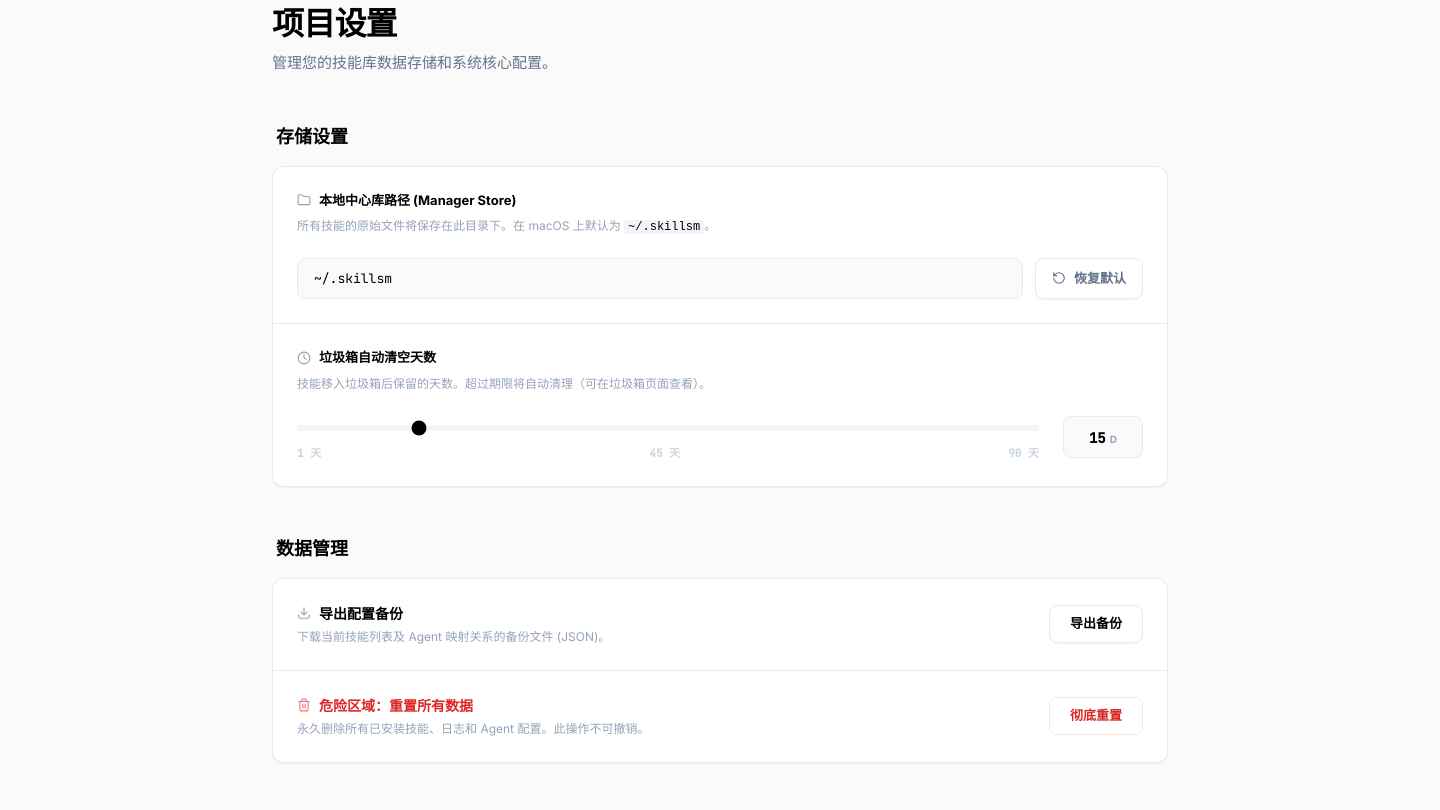
Scenario: SettingsPage › 点击中心库路径会打开选择器并二次确认迁移
Click the field named "本地中心库路径". click: click(660, 278)
box: [314,268,1006,288]
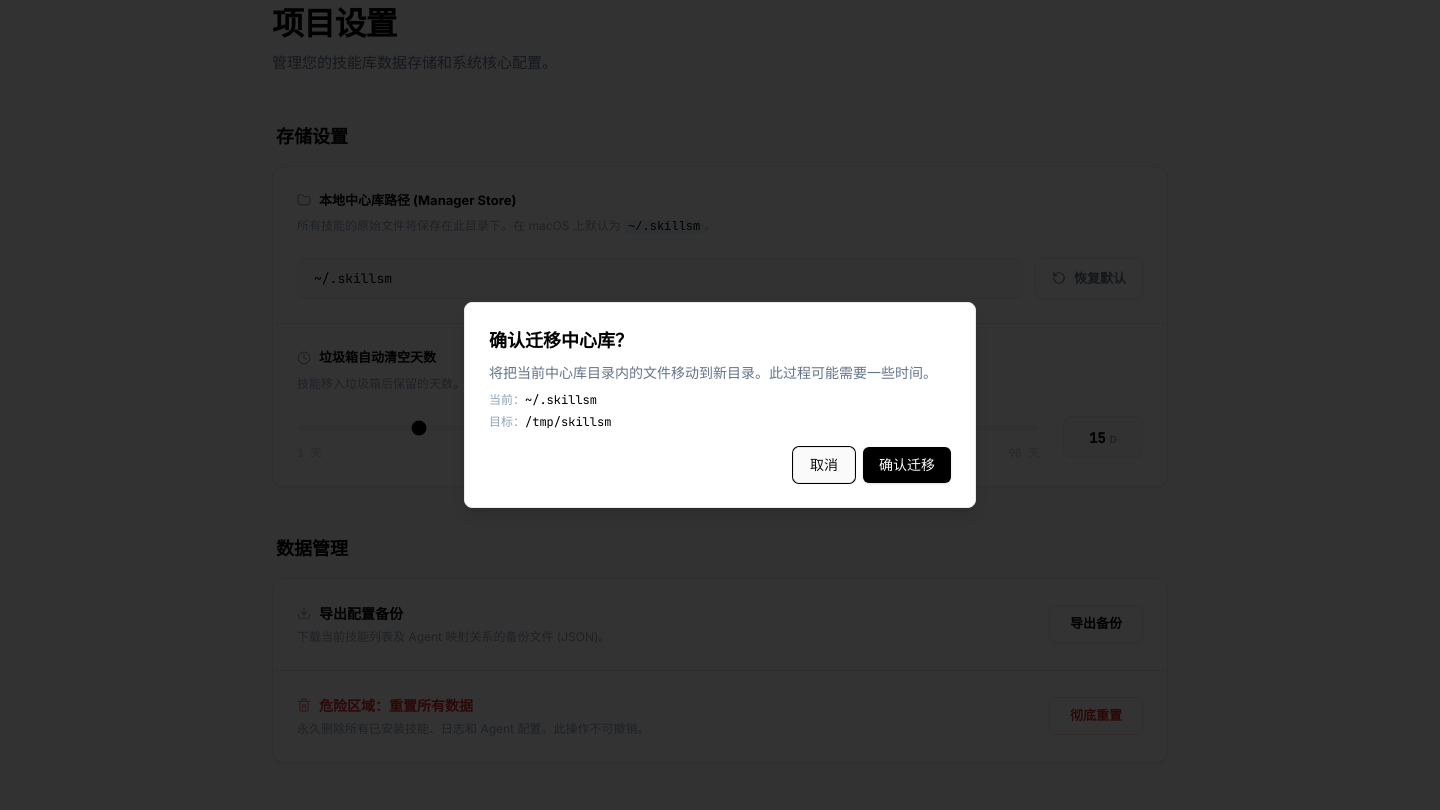
Expected: the heading "确认迁移中心库？" is shown, [489,330,633,351]
Click the button "确认迁移". click: click(907, 465)
box: [863,447,951,483]
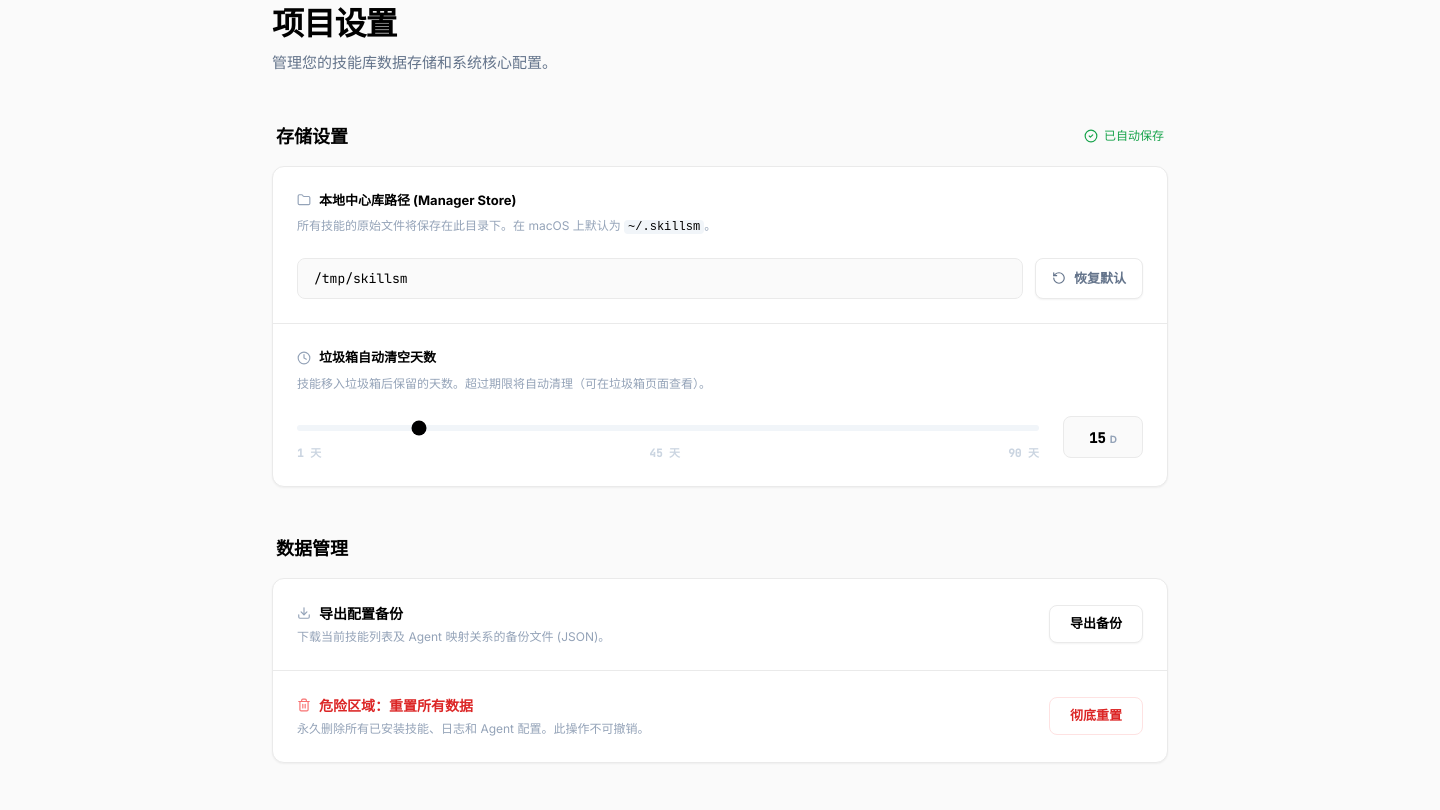
Expected: the field named "本地中心库路径" holds "/tmp/skillsm", [314,268,1006,288]
